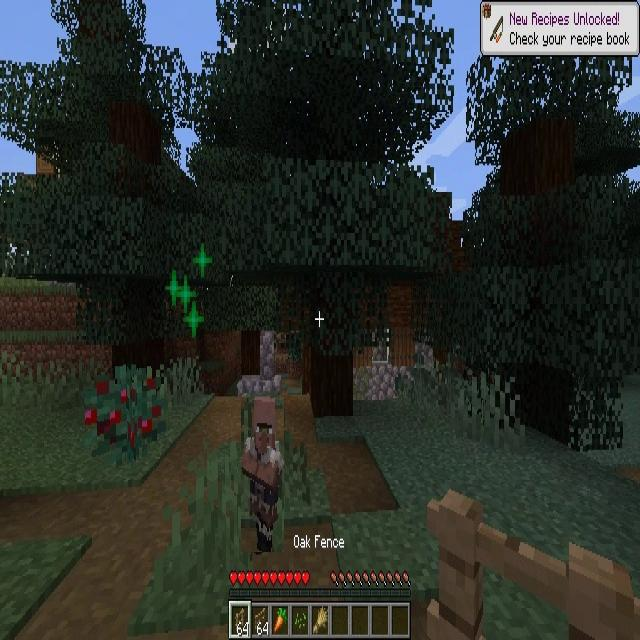people: (241, 397, 284, 552)
